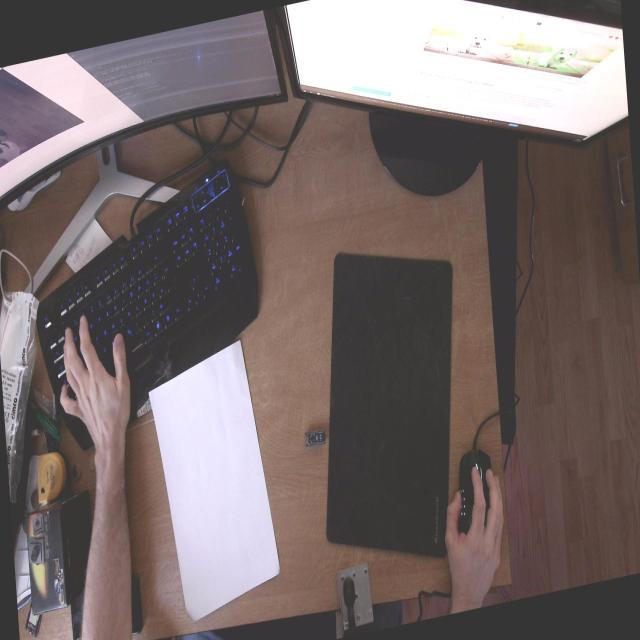keyboard-with-hands: (34, 155, 265, 456)
